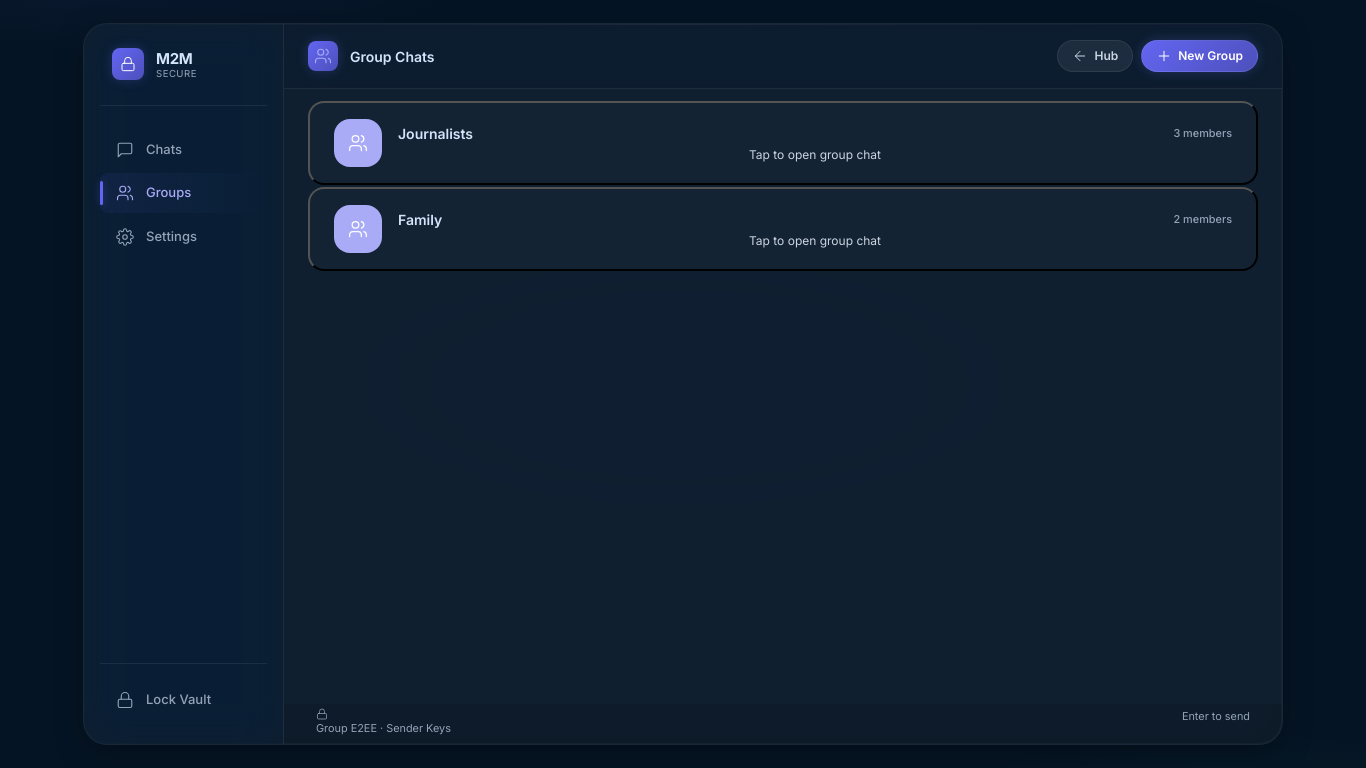
Scenario: GroupChatView — inbound group messages › appends an inbound group message
Click the text "Journalists" at (436, 133), box x1=398 y1=122 x2=473 y2=144
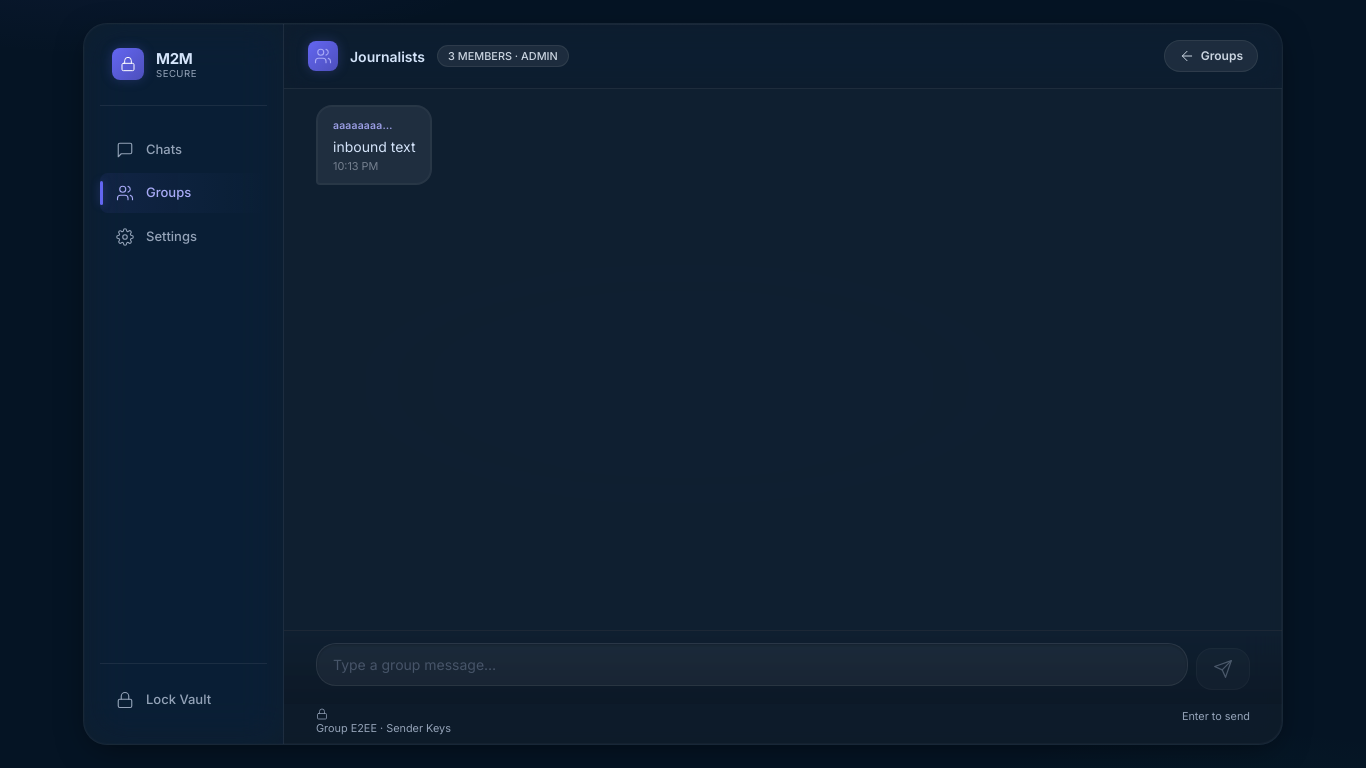
Expected: the text box is shown, x1=316 y1=643 x2=1188 y2=686
Expected: the text "inbound text" is shown, x1=333 y1=136 x2=416 y2=157
